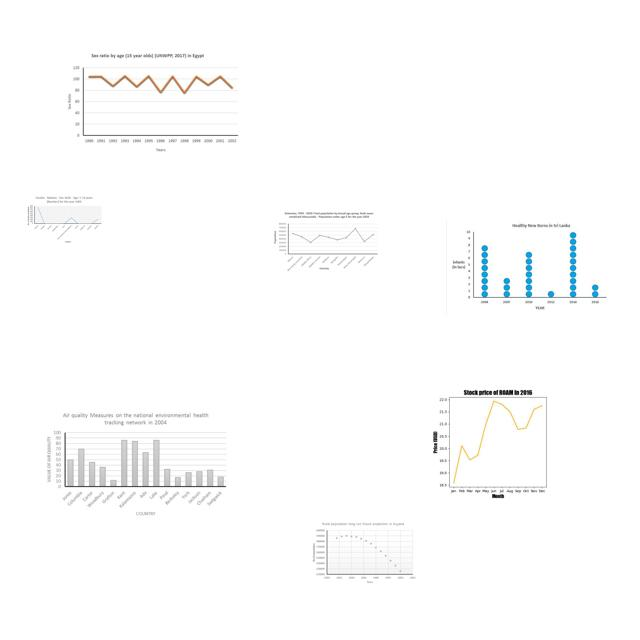Graph: (43, 409, 230, 521), (62, 50, 248, 156), (418, 383, 574, 500), (446, 219, 610, 315), (273, 210, 381, 272), (312, 521, 416, 584), (26, 195, 103, 244)
